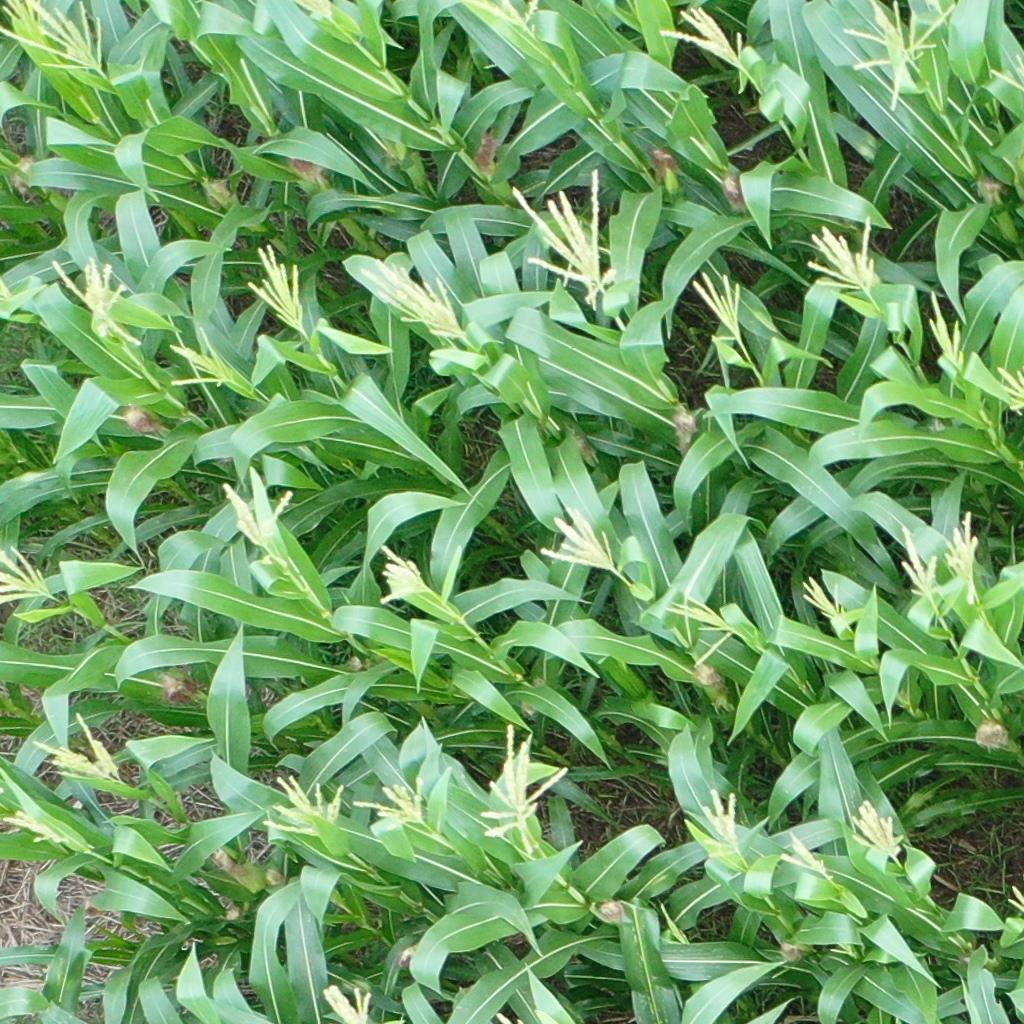Tassel: (510, 169, 623, 307), (478, 723, 569, 862), (844, 1, 956, 111), (358, 253, 467, 344), (50, 255, 143, 352), (1, 1, 107, 78), (656, 1, 757, 78), (806, 212, 892, 301), (31, 711, 123, 787), (221, 472, 295, 560), (241, 245, 314, 333), (660, 591, 733, 671), (533, 508, 622, 573), (350, 770, 436, 835), (163, 325, 242, 392), (266, 774, 345, 840), (689, 270, 753, 346), (373, 540, 441, 607), (1, 544, 61, 611), (848, 800, 907, 862), (925, 293, 967, 379), (944, 508, 985, 588), (3, 805, 74, 850), (701, 788, 747, 855), (898, 523, 937, 597), (772, 829, 829, 877), (319, 978, 377, 1024), (801, 578, 844, 622), (991, 366, 1024, 418), (475, 1, 540, 27), (1, 1, 44, 29), (288, 1, 337, 23)
